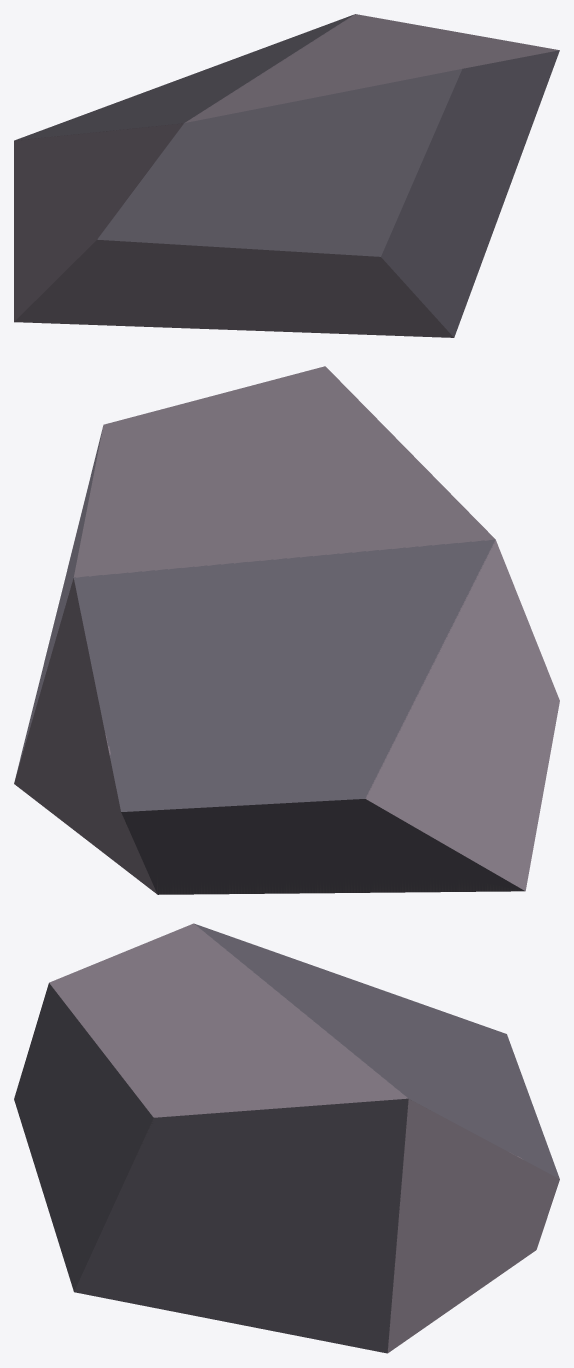
File: rocha-4.fbx
The picture shows the model from 3 angles, top to bottom: view 1: azimuth 30°, elevation 25°; view 2: azimuth 150°, elevation 25°; view 3: azimuth 270°, elevation 25°; orthographic projection. The views are drawn at different scales.
Parts seen in each view (by area): view 1: rocha-4; view 2: rocha-4; view 3: rocha-4.
Boxes of the visible parts, x1=… form: rocha-4: x1=14, y1=14, x2=559, y2=337; rocha-4: x1=14, y1=366, x2=559, y2=894; rocha-4: x1=14, y1=923, x2=559, y2=1353.
Bounding box in the file's own units: 87.9 × 51.27 × 82.4.
